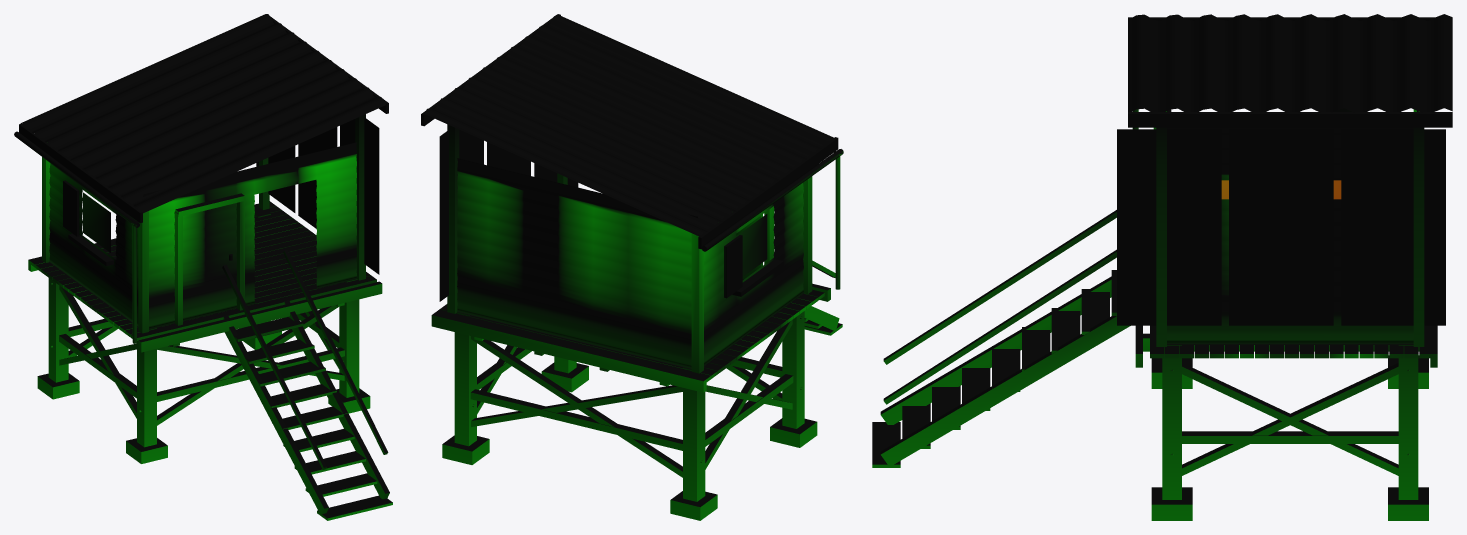
File: civstoragec.glb
The picture shows the model from 3 angles, left to right: view 1: azimuth 30°, elevation 25°; view 2: azimuth 150°, elevation 25°; view 3: azimuth 270°, elevation 25°; orthographic projection. The views are drawn at different scales.
Parts seen in each view (by area): view 1: lod0; view 2: lod0; view 3: lod0.
Boxes of the visible parts, x1,y1,x2,y2 form: lod0: [14, 14, 392, 520]; lod0: [421, 14, 843, 520]; lod0: [872, 14, 1452, 520].
Size of what is drawn, in the model's own units: 5.26 by 6.17 by 7.76.
